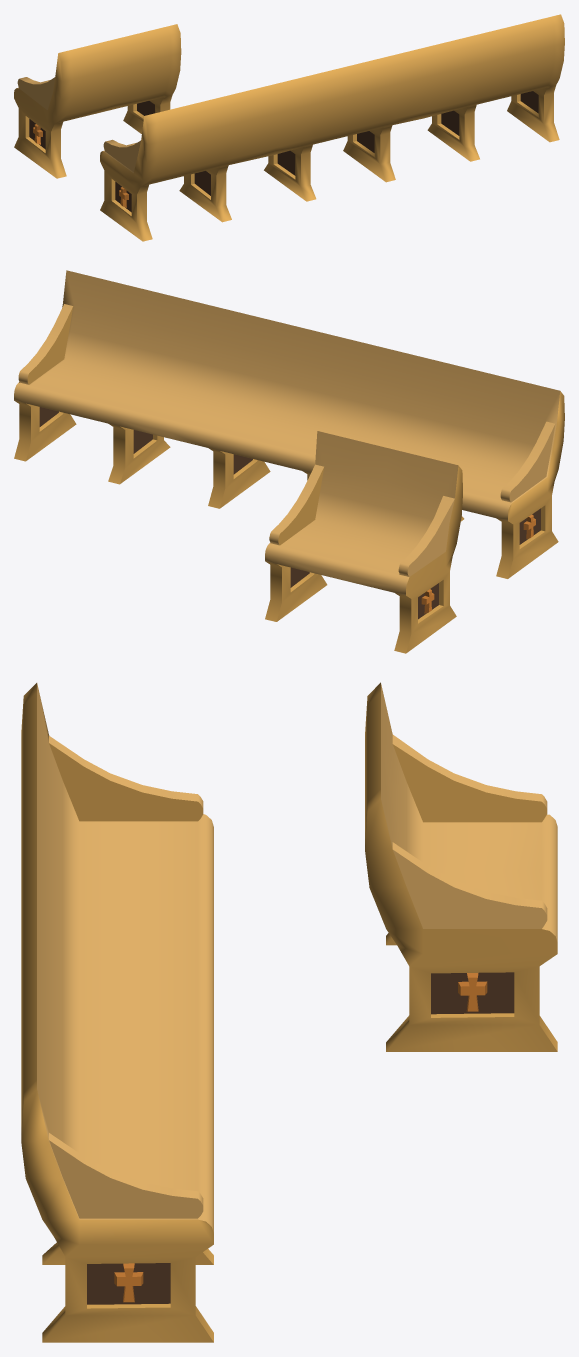
The model's file is ChapelPew.fbx.
The picture shows the model from 3 angles, top to bottom: view 1: azimuth 30°, elevation 25°; view 2: azimuth 150°, elevation 25°; view 3: azimuth 270°, elevation 25°; orthographic projection. The views are drawn at different scales.
Parts seen in each view (by area): view 1: ChapelPewUright, ChapelPewI, ChapelPewO, ChapelPewUleft; view 2: ChapelPewUleft, ChapelPewO, ChapelPewI, ChapelPewUright; view 3: ChapelPewO, ChapelPewUleft, ChapelPewUright, ChapelPewI.
Boxes of the visible parts, x1,y1,x2,y2 form: ChapelPewUright: (100, 83, 281, 241); ChapelPewI: (264, 47, 430, 201); ChapelPewO: (14, 24, 181, 178); ChapelPewUleft: (424, 14, 564, 161); ChapelPewUleft: (14, 270, 224, 484); ChapelPewO: (265, 431, 462, 653); ChapelPewI: (172, 309, 401, 508); ChapelPewUright: (379, 352, 564, 578); ChapelPewO: (365, 682, 557, 1051); ChapelPewUleft: (21, 959, 213, 1342); ChapelPewUright: (21, 683, 213, 956); ChapelPewI: (21, 813, 213, 1102).
Size of the model in its own units: 2.8 by 0.813 by 1.56.
